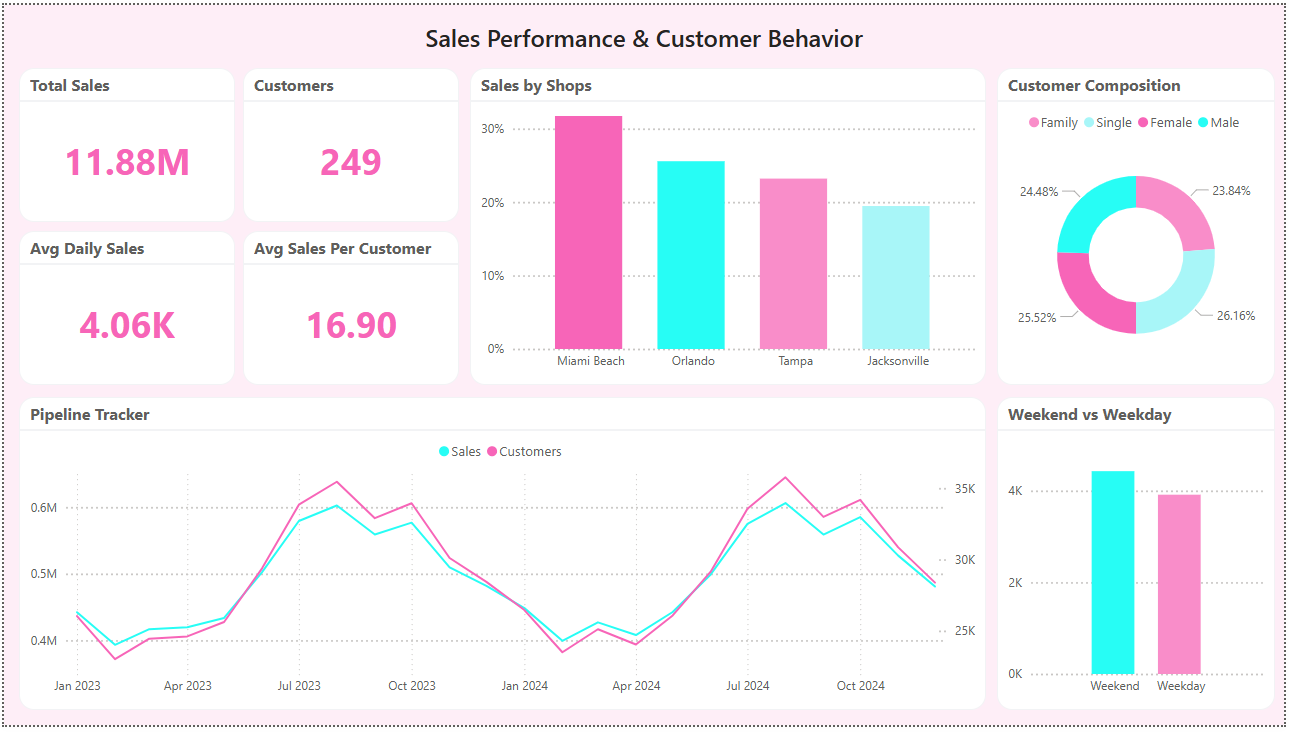

This screenshot's page, from the dashboard's own definition file:
{"tool":"powerbi","page":{"name":"Page 1","canvas":[1280,720],"ordinal":0},"visuals":[{"type":"lineChart","title":"Pipeline Tracker","fields":{"Category":["table_joined.date.Variation.Date Hierarchy.Year","table_joined.date.Variation.Date Hierarchy.Month","table_joined.date.Variation.Date Hierarchy.Day"],"Y2":["Sum(table_joined.customers)"],"Y":["Sum(table_joined.sales_usd)"]},"box":[15,392,967,313],"z":0},{"type":"clusteredColumnChart","title":"Sales by Shops","fields":{"Category":["table_joined.shop_name"],"Y":["table_joined.total_sales"]},"box":[466,63,516,317],"z":1000},{"type":"donutChart","title":"Customer Composition","fields":{"Y":["Avg(table_joined.pct_family)","Avg(table_joined.pct_single)","Avg(table_joined.pct_female)","Avg(table_joined.pct_male)"]},"box":[993,63,278,317],"z":2000},{"type":"cardVisual","title":"Total Sales","fields":{"Data":["Sum(table_joined.sales_usd)"]},"box":[15,63,216,154],"z":3000},{"type":"cardVisual","title":"Customers","fields":{"Data":["Count(table_joined.customers)"]},"box":[239,63,216,154],"z":4000},{"type":"cardVisual","title":"Avg Daily Sales","fields":{"Data":["table_joined.avg_daily_sales"]},"box":[15,226,216,154],"z":5000},{"type":"cardVisual","title":"Avg Sales Per Customer","fields":{"Data":["Avg(table_joined.sales_per_customer)"]},"box":[239,226,216,154],"z":6000},{"type":"clusteredColumnChart","title":"Weekend vs Weekday","fields":{"Category":["table_joined.is_weekend"],"Y":["table_joined.avg_daily_sales"]},"box":[993,392,278,313],"z":7000},{"type":"textbox","box":[384,11,512,45],"z":8000}]}

Visuals, with their boxes in screenshot pixels (x1, y1, x2, y2), scaled from the page's 1280x720 canvas onto the 1289x732 screenshot:
"Pipeline Tracker" lineChart: bbox=[15, 399, 989, 717]
"Sales by Shops" clusteredColumnChart: bbox=[469, 64, 989, 386]
"Customer Composition" donutChart: bbox=[1000, 64, 1280, 386]
"Total Sales" cardVisual: bbox=[15, 64, 233, 221]
"Customers" cardVisual: bbox=[241, 64, 458, 221]
"Avg Daily Sales" cardVisual: bbox=[15, 230, 233, 386]
"Avg Sales Per Customer" cardVisual: bbox=[241, 230, 458, 386]
"Weekend vs Weekday" clusteredColumnChart: bbox=[1000, 399, 1280, 717]
textbox: bbox=[387, 11, 902, 57]
